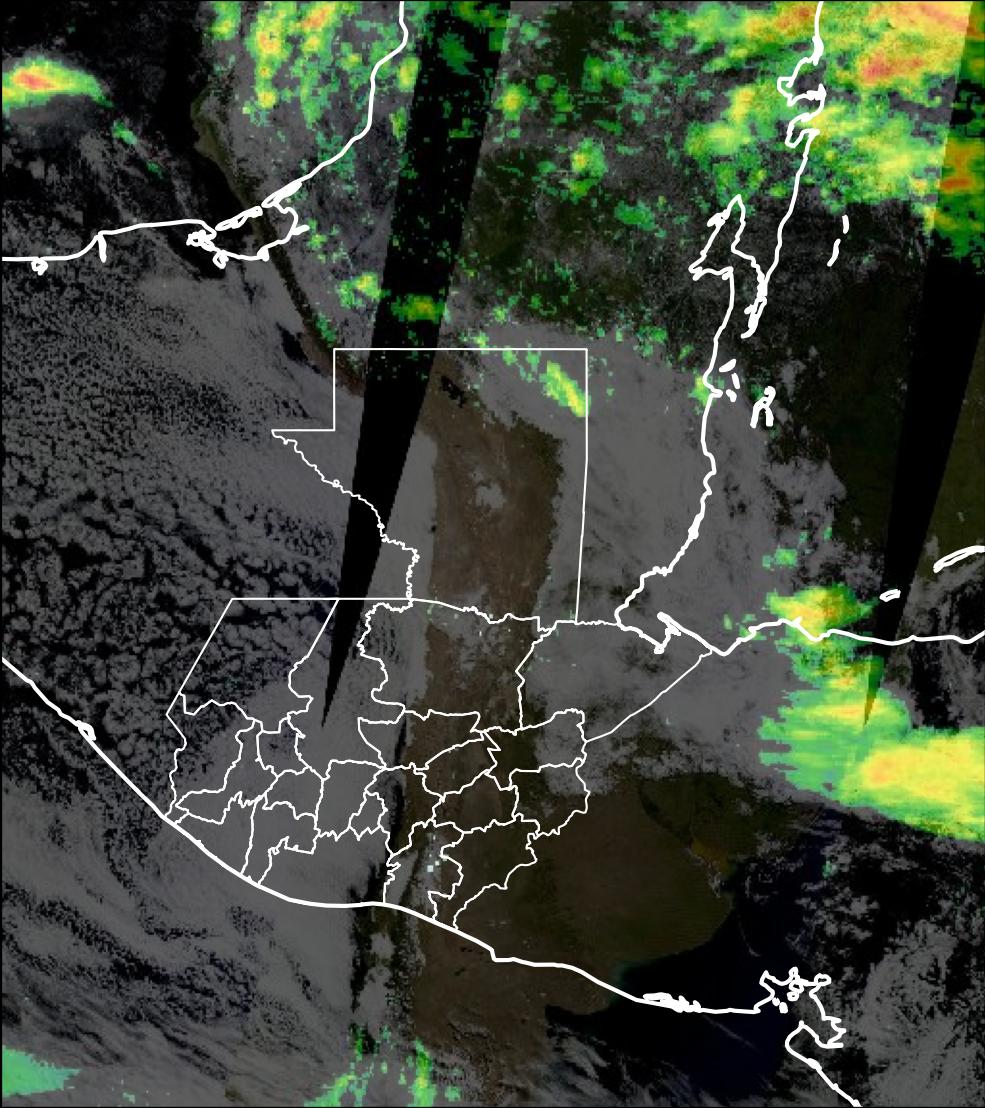precipitacion: (853, 1, 985, 104), (3, 53, 84, 99)
